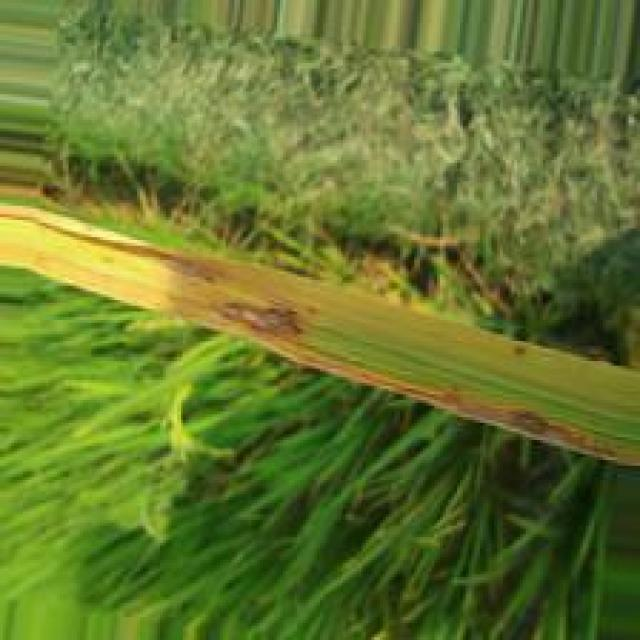Leaf_Blast: (1, 211, 640, 468)
